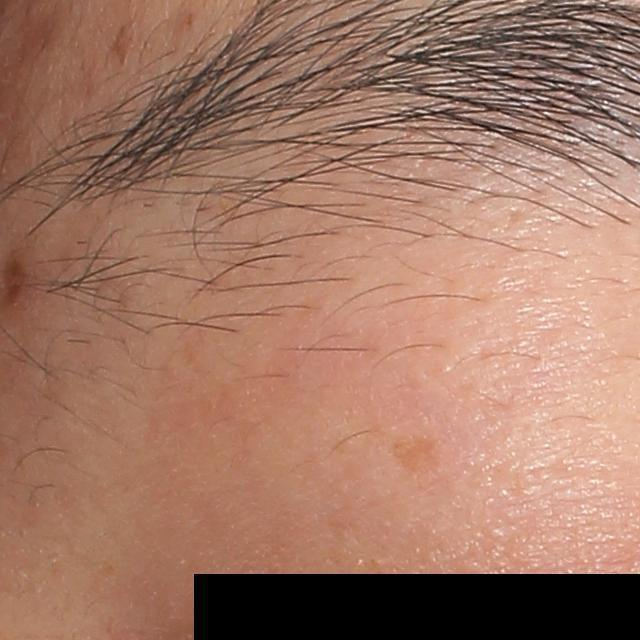melasma: (386, 434, 453, 479)
